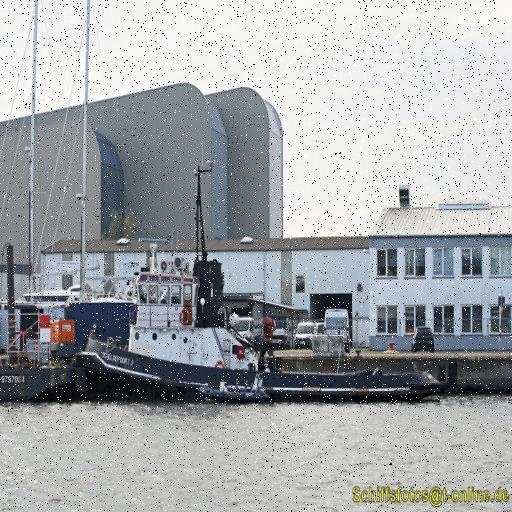tugboat: (72, 137, 449, 413)
